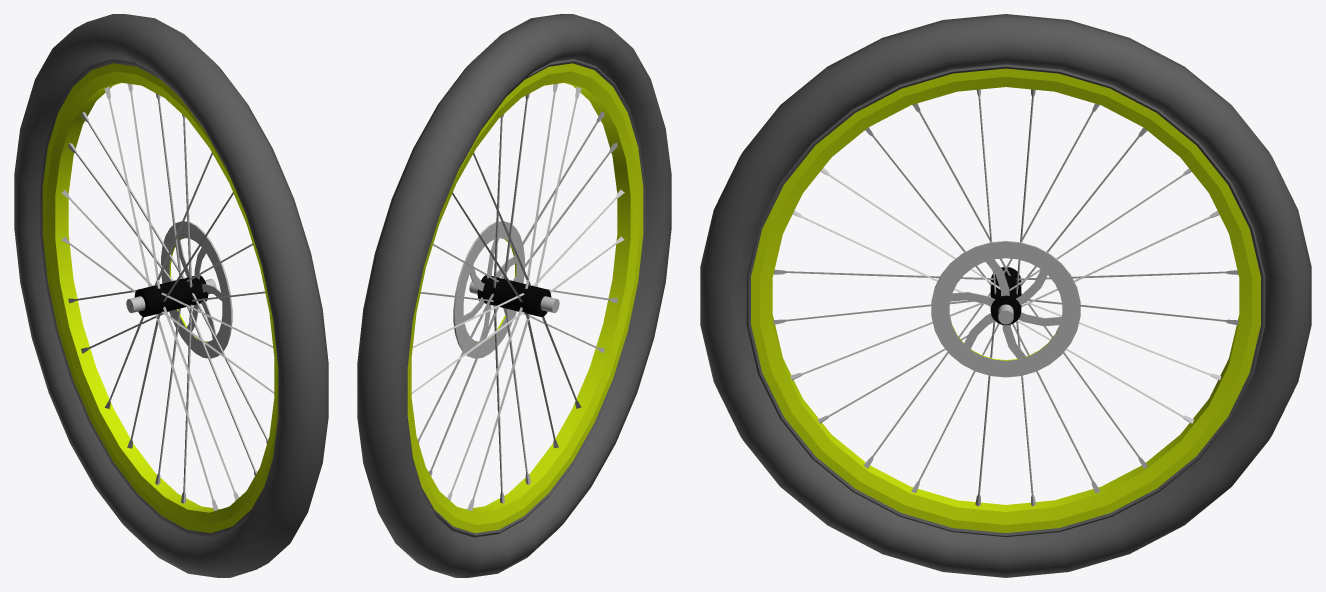
File: bicycle_wheel_rear.fbx
The picture shows the model from 3 angles, left to right: view 1: azimuth 30°, elevation 25°; view 2: azimuth 150°, elevation 25°; view 3: azimuth 270°, elevation 25°; orthographic projection. The views are drawn at different scales.
Parts seen in each view (by area): view 1: rear_wheel; view 2: rear_wheel; view 3: rear_wheel.
Part boxes in pixels (bbox=[...]): rear_wheel: bbox=[14, 14, 328, 577]; rear_wheel: bbox=[357, 14, 671, 577]; rear_wheel: bbox=[700, 14, 1311, 577].
Size of the model in its own units: 10.79 by 65.09 by 64.73.
